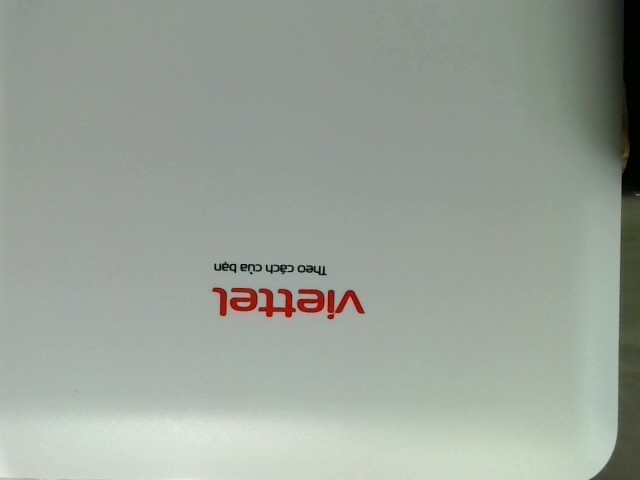AY_Viettel: (202, 254, 375, 325)
